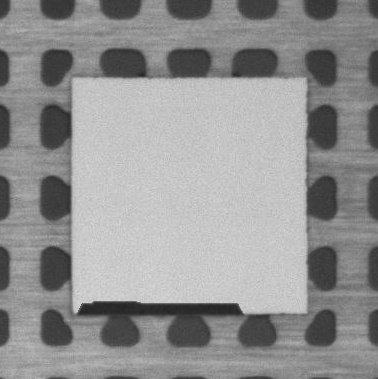DIE_BROKEN: (73, 298, 248, 316)
